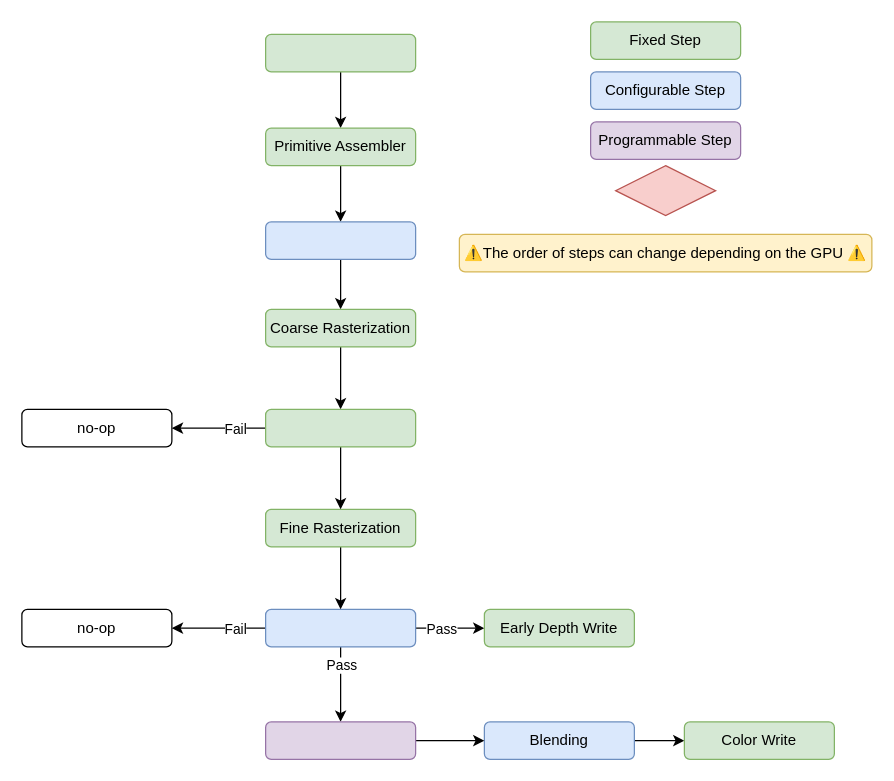
Image size: 894x781. Some labels were removed from this diagram. Each missing label, with the centre of its shape:
"Condition" belongs at pixel 665 190.
"Early Depth Test" belongs at pixel 340 627.
"Face Culling" belongs at pixel 340 240.
"Fragment Invocation" belongs at pixel 340 740.
"Hi-Z Test" belongs at pixel 340 427.
"Mesh Data" belongs at pixel 340 52.
